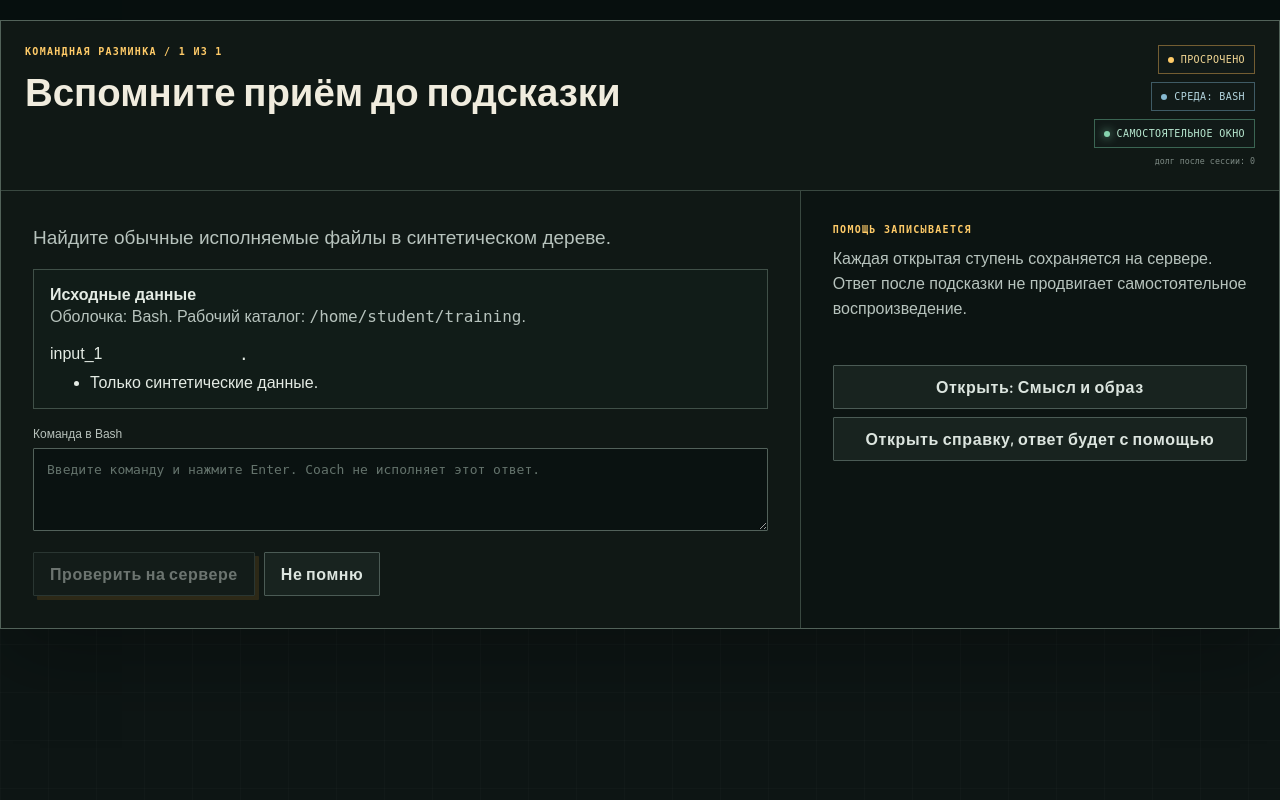
Test: CommandPracticePanel › submits on Enter, keeps Shift+Enter, and shows the correction after a wrong answer
Expected: the text "Найдите обычные исполняемые файлы в синтетическом дереве." is shown, [33,227,611,248]
Replace the text in the text box labelled "Команда в Bash" with "ls" at coordinates (400, 490), box [33,448,768,531]
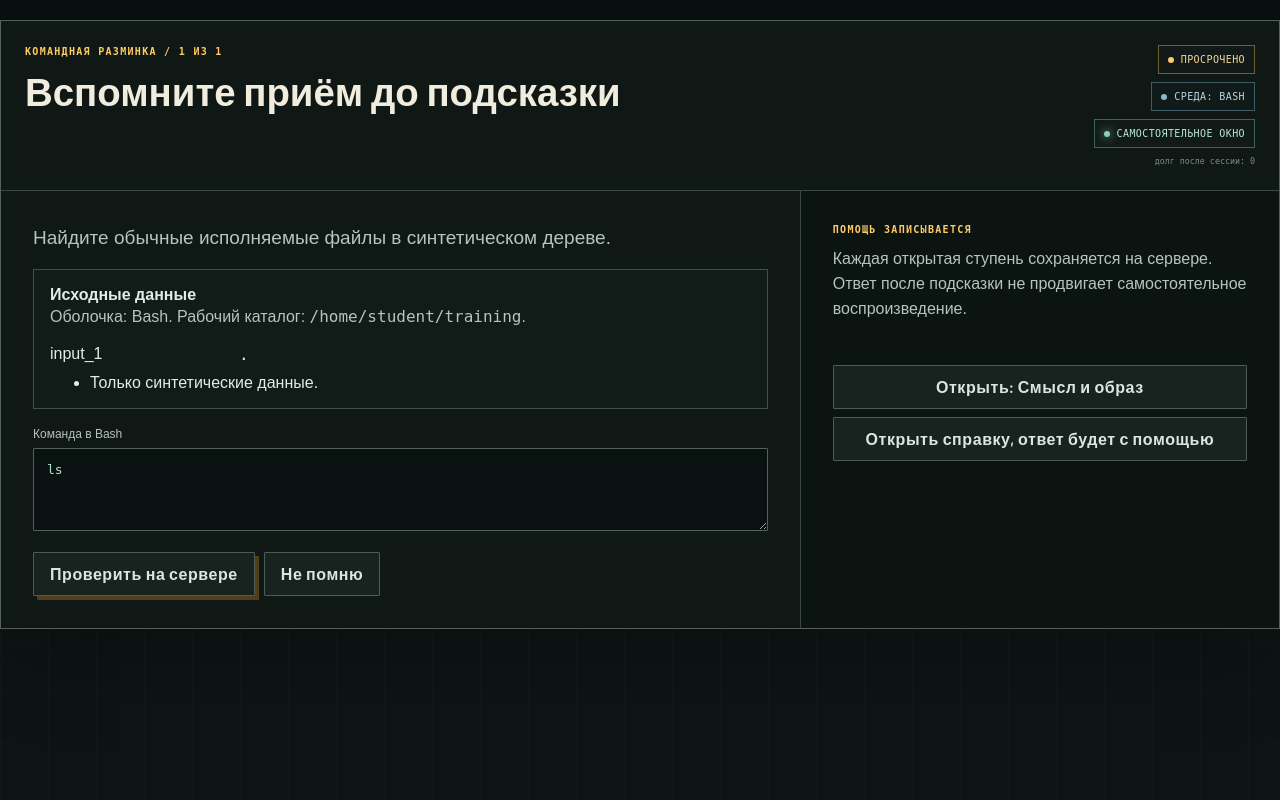
Press Enter in the text box labelled "Команда в Bash", box [33,448,768,531]
Press Enter in the text box labelled "Команда в Bash", box [33,448,768,531]
(page scrolled)
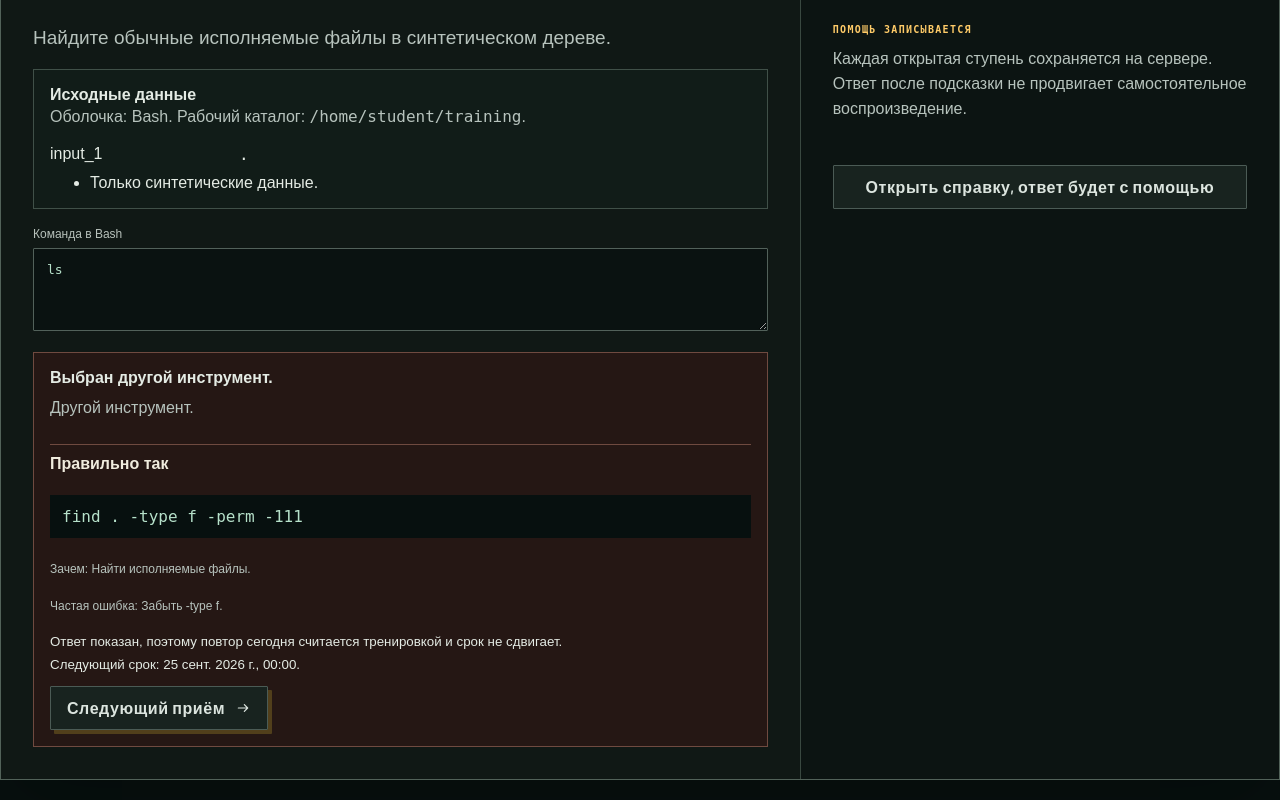
Result: the text "Правильно так" is shown at [50,455,168,472]
Result: the text "find . -type f -perm -111" is shown at [50,495,751,538]
Result: the text "Частая ошибка: Забыть -type f." is shown at [50,599,222,613]
